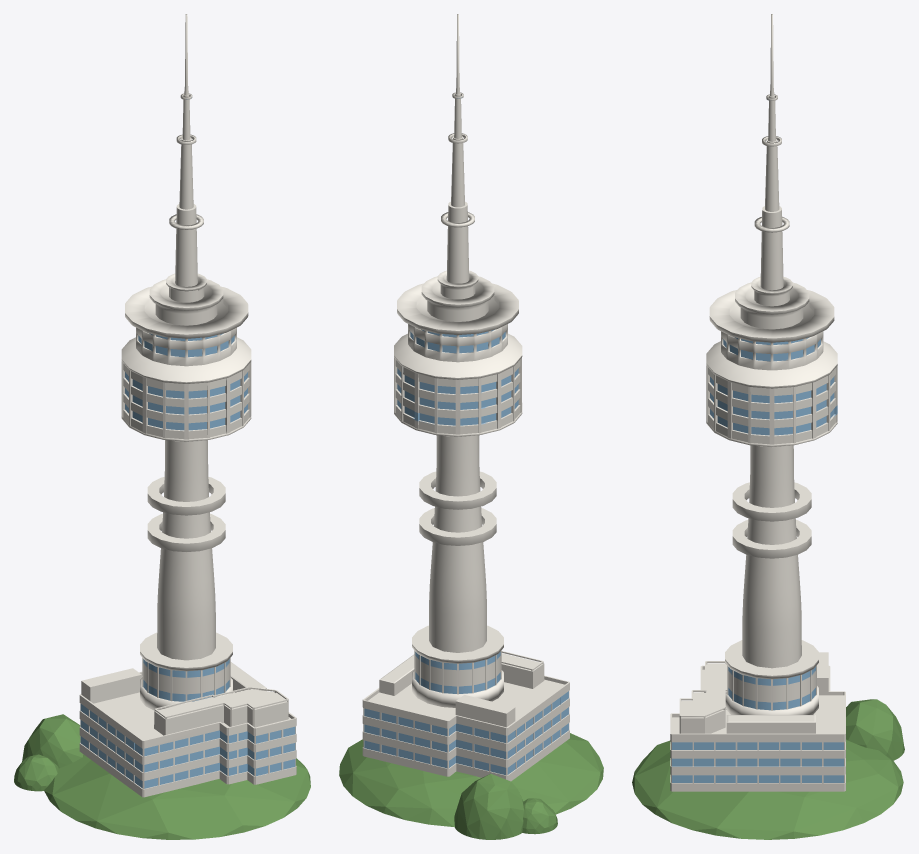
Rendered from ntower.glb.
3 renders of one model, left to right at view 1: azimuth 30°, elevation 25°; view 2: azimuth 150°, elevation 25°; view 3: azimuth 270°, elevation 25°, orthographic. The views are drawn at different scales.
Visible parts, largest first — view 1: Group003, Sphere005, Cylinder015, Box004, Group002, Cylinder017, Cylinder018, Sphere006, Cylinder022, Box006, Sphere007; view 2: Group003, Sphere005, Box004, Cylinder015, Group002, Cylinder017, Sphere006, Cylinder022, Cylinder018, Box006, Sphere007, Box005; view 3: Group003, Sphere005, Cylinder015, Box004, Group002, Cylinder017, Cylinder018, Sphere006, Cylinder022, Box005.
Boxes of the visible parts, left/top/right/bottom form: Group003: left=125, top=14, right=248, bottom=701; Sphere005: left=44, top=755, right=310, bottom=839; Cylinder015: left=157, top=440, right=215, bottom=660; Box004: left=79, top=671, right=296, bottom=797; Group002: left=80, top=687, right=295, bottom=788; Cylinder017: left=121, top=361, right=251, bottom=439; Cylinder018: left=121, top=337, right=251, bottom=383; Sphere006: left=22, top=714, right=84, bottom=768; Cylinder022: left=140, top=632, right=232, bottom=710; Box006: left=81, top=668, right=141, bottom=703; Sphere007: left=14, top=754, right=58, bottom=791; Group003: left=397, top=14, right=518, bottom=694; Sphere005: left=339, top=733, right=603, bottom=827; Box004: left=362, top=675, right=569, bottom=781; Cylinder015: left=429, top=435, right=486, bottom=652; Group002: left=363, top=651, right=569, bottom=775; Cylinder017: left=394, top=357, right=521, bottom=434; Sphere006: left=454, top=773, right=523, bottom=839; Cylinder022: left=412, top=625, right=503, bottom=707; Cylinder018: left=394, top=333, right=522, bottom=379; Box006: left=455, top=695, right=515, bottom=727; Sphere007: left=522, top=798, right=557, bottom=834; Box005: left=379, top=654, right=414, bottom=695; Group003: left=709, top=14, right=834, bottom=710; Sphere005: left=632, top=739, right=903, bottom=839; Cylinder015: left=742, top=445, right=801, bottom=668; Box004: left=670, top=665, right=845, bottom=791; Group002: left=670, top=661, right=845, bottom=783; Cylinder017: left=706, top=365, right=837, bottom=444; Cylinder018: left=706, top=341, right=837, bottom=388; Sphere006: left=846, top=699, right=904, bottom=760; Cylinder022: left=725, top=640, right=818, bottom=714; Box005: left=726, top=715, right=815, bottom=733.
Size of what is drawn, in the model's own units: 2.24 by 6.87 by 2.19.
2 materials, 1 textured.
